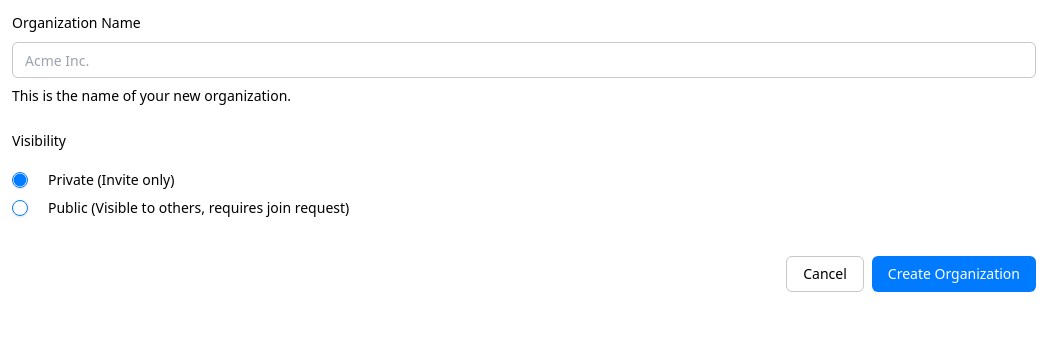
Test: CreateOrganizationForm › shows validation error for short name
Type "ab" into the field labelled "Organization Name" at (524, 60), box x1=12 y1=42 x2=1036 y2=78
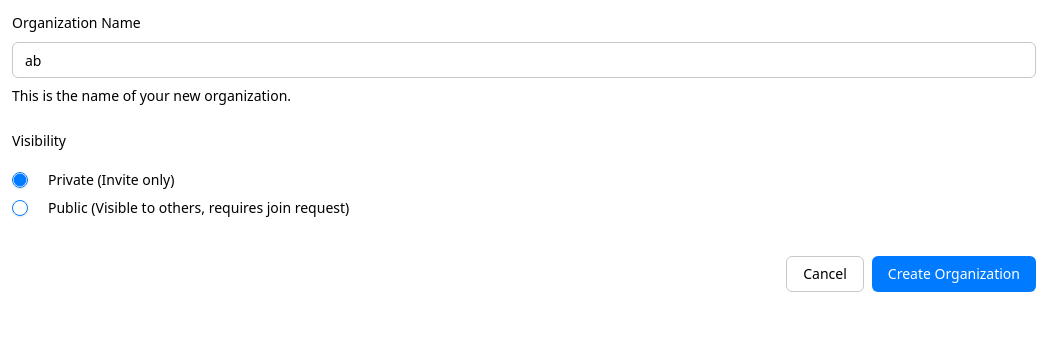
Click the button "Create Organization" at (954, 274), box x1=872 y1=256 x2=1036 y2=292
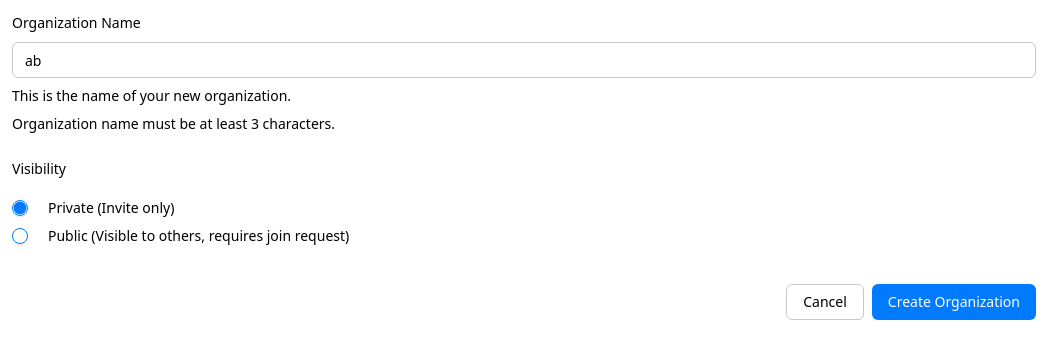
expect the text "Organization name must be at least 3 characters." is shown: met, box x1=12 y1=114 x2=335 y2=133
